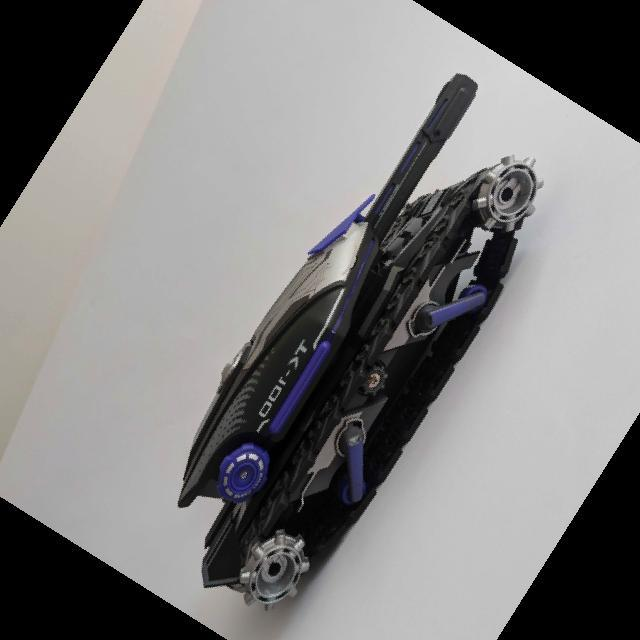barrel: (364, 72, 480, 240)
